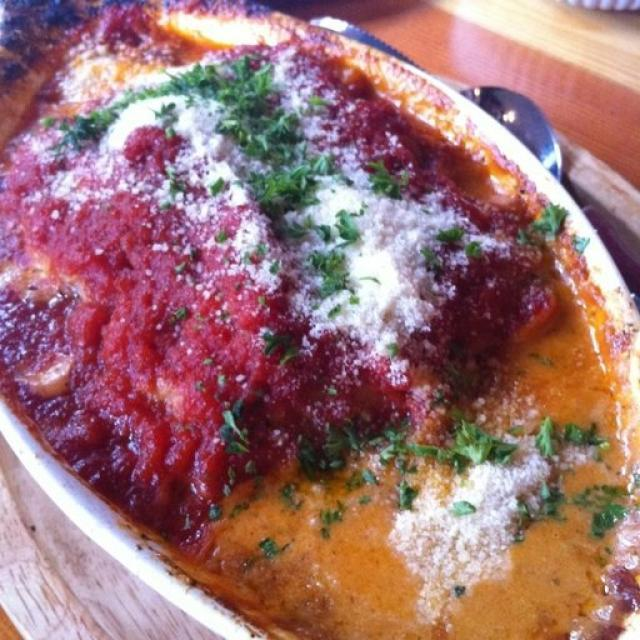Lasagna: (18, 33, 580, 603)
